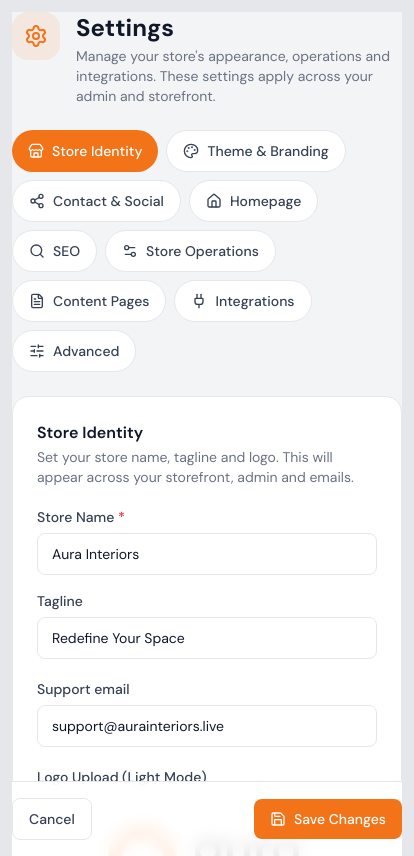
StoreSettings page (Batch 3d redesign) › SEO preview substitutes the store name and the meta count updates live
Expected: the field named "Store name" is shown, [37,533,377,575]
Step 1. Click the tab "SEO" → click(55, 251), box [12,230,97,272]
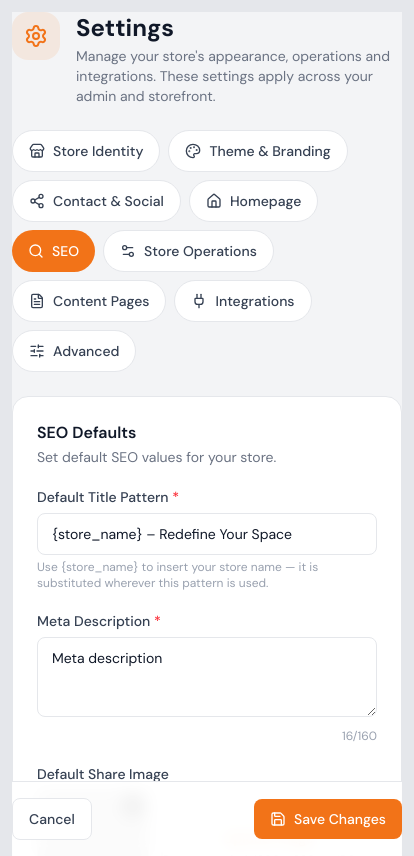
Expected: the text "16/160" is shown, [342,728,377,744]
Step 2. Replace the text in the text box named "Meta description" with "Short" → (207, 677), box [37,637,377,717]
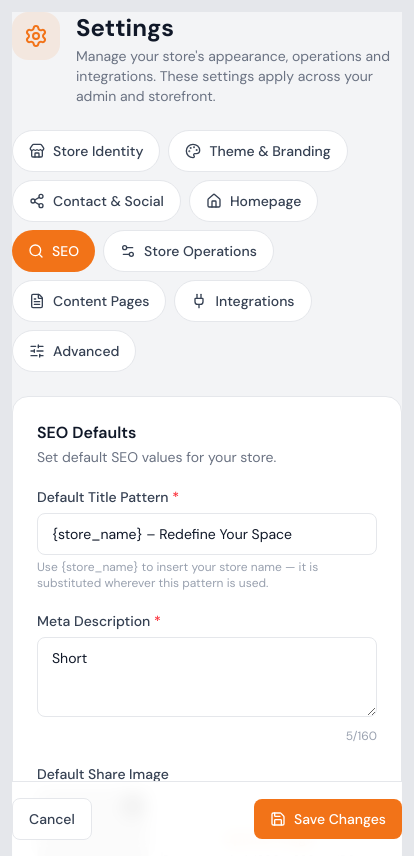
Expected: the text "5/160" is shown, [346,728,377,744]
